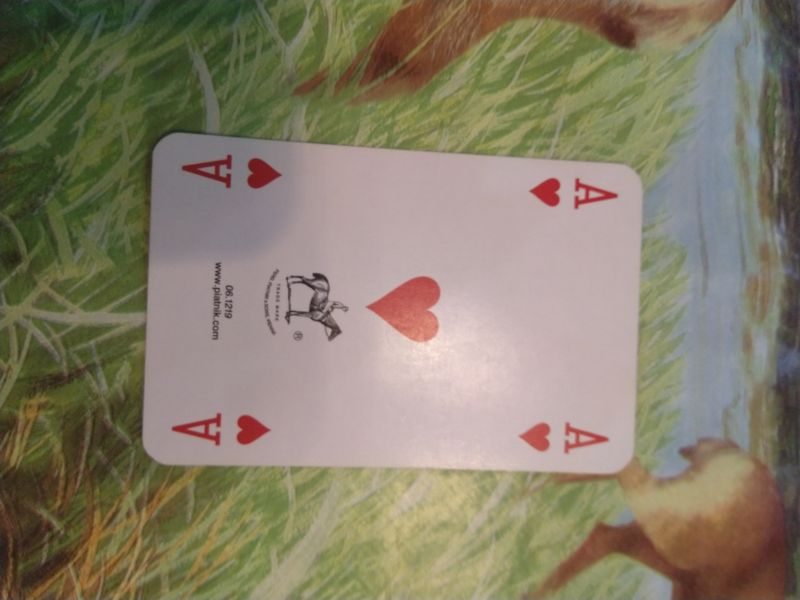Ah: (177, 150, 287, 193), (166, 409, 275, 449), (516, 416, 613, 458), (524, 172, 622, 212)
